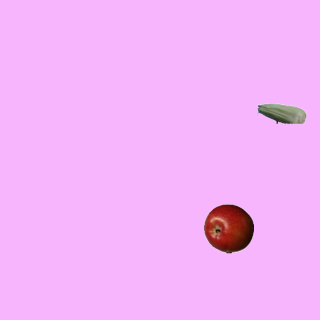Apple Braeburn: (203, 203, 253, 253)
Corn Husk: (256, 88, 306, 138)
